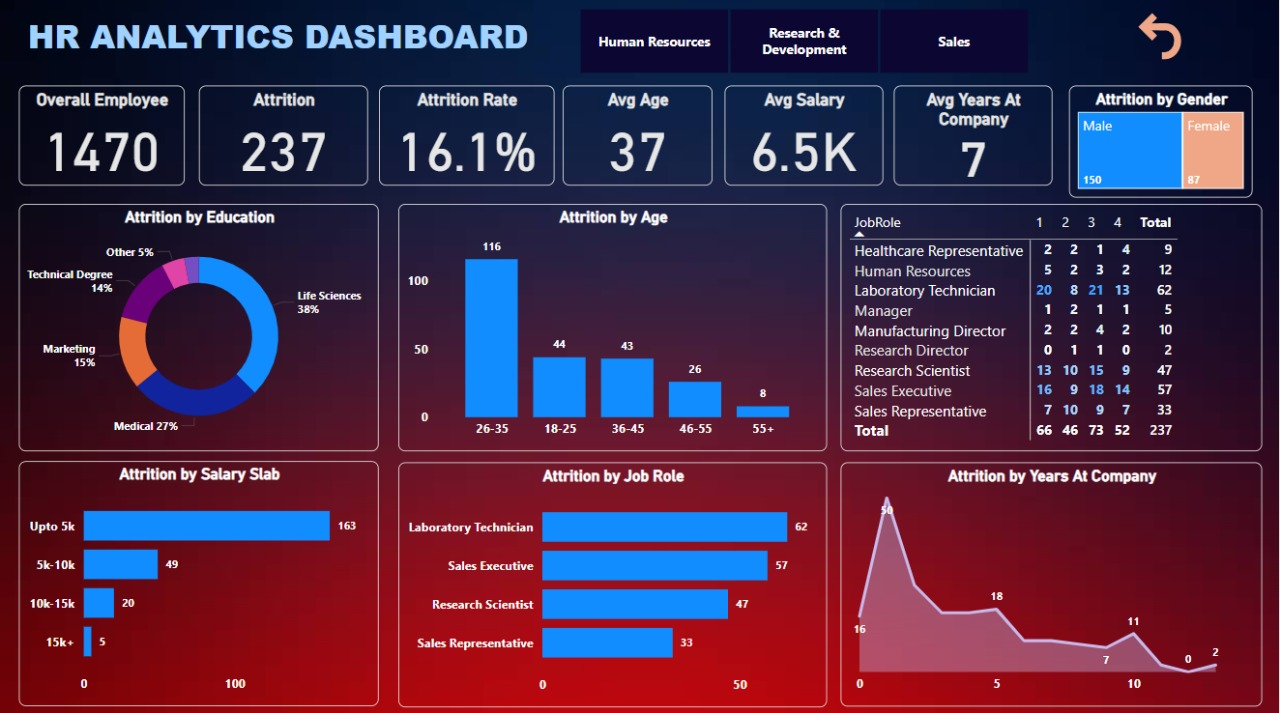

The dashboard page shown, as its layout file describes it:
{"tool":"powerbi","page":{"name":"Page 1","canvas":[1280,720],"ordinal":0},"visuals":[{"type":"card","title":"Overall Employee","fields":{"Values":["CountNonNull(HR_Analytics.EmpID)"]},"box":[21.7,89.3,165.3,100.1],"z":0},{"type":"card","title":"Attrition","fields":{"Values":["Sum(HR_Analytics.Attrition Count)"]},"box":[201.5,89.3,168.9,100.1],"z":1000},{"type":"card","title":"Attrition Rate","fields":{"Values":["HR_Analytics.AttritionRate"]},"box":[381.2,89.3,174.9,100.1],"z":2000},{"type":"card","title":"Avg Age","fields":{"Values":["Avg(HR_Analytics.Age)"]},"box":[564.6,89.3,149.6,100.1],"z":3000},{"type":"card","title":"Avg Salary","fields":{"Values":["Avg(HR_Analytics.MonthlyIncome)"]},"box":[726.3,89.3,158,100.1],"z":4000},{"type":"card","title":"Avg Years At Company","fields":{"Values":["Avg(HR_Analytics.YearsAtCompany)"]},"box":[895.2,89.3,158,100.1],"z":5000},{"type":"donutChart","title":"Attrition by Education","fields":{"Category":["HR_Analytics.EducationField"],"Y":["Sum(HR_Analytics.Attrition Count)"]},"box":[21.7,207.5,359.5,247.3],"z":6000},{"type":"columnChart","title":"Attrition by Age","fields":{"Category":["HR_Analytics.AgeGroup"],"Y":["Sum(HR_Analytics.Attrition Count)"]},"box":[400.5,207.5,428.3,247.3],"z":7000},{"type":"pivotTable","fields":{"Values":["Sum(HR_Analytics.Attrition Count)"],"Columns":["HR_Analytics.JobSatisfaction"],"Rows":["HR_Analytics.JobRole"]},"box":[842.1,207.5,421,247.3],"z":8000},{"type":"barChart","title":"Attrition by Salary Slab","fields":{"Category":["HR_Analytics.SalarySlab"],"Y":["Sum(HR_Analytics.Attrition Count)"]},"box":[21.7,464.5,359.5,244.9],"z":9000},{"type":"barChart","title":"Attrition by Job Role","fields":{"Category":["HR_Analytics.JobRole"],"Y":["Sum(HR_Analytics.Attrition Count)"]},"box":[400.5,465.7,428.3,244.9],"z":10000},{"type":"areaChart","title":"Attrition by Years At Company","fields":{"Category":["HR_Analytics.YearsAtCompany"],"Y":["Sum(HR_Analytics.Attrition Count)"]},"box":[842.1,465.7,421,243.7],"z":11000},{"type":"treemap","title":"Attrition by Gender","fields":{"Group":["HR_Analytics.Gender"],"Values":["Sum(HR_Analytics.Attrition Count)"]},"box":[1070.1,89.3,183.4,112.2],"z":12000},{"type":"textbox","box":[13.3,12.1,534.5,65.1],"z":13000},{"type":"slicer","fields":{"Values":["HR_Analytics.Department"]},"box":[556.2,6,497.1,77.2],"z":14000},{"type":"actionButton","box":[1105.6,12.1,112.8,55.1],"z":14001}]}

Visuals, with their boxes in screenshot pixels (x1, y1, x2, y2), scaled from the page's 1280x720 canvas onto the 1280x713 screenshot:
"Overall Employee" card: select_region(22, 88, 187, 188)
"Attrition" card: select_region(202, 88, 370, 188)
"Attrition Rate" card: select_region(381, 88, 556, 188)
"Avg Age" card: select_region(565, 88, 714, 188)
"Avg Salary" card: select_region(726, 88, 884, 188)
"Avg Years At Company" card: select_region(895, 88, 1053, 188)
"Attrition by Education" donutChart: select_region(22, 205, 381, 450)
"Attrition by Age" columnChart: select_region(400, 205, 829, 450)
pivotTable - Sum(HR_Analytics.Attrition Count) x HR_Analytics.JobSatisfaction: select_region(842, 205, 1263, 450)
"Attrition by Salary Slab" barChart: select_region(22, 460, 381, 703)
"Attrition by Job Role" barChart: select_region(400, 461, 829, 704)
"Attrition by Years At Company" areaChart: select_region(842, 461, 1263, 703)
"Attrition by Gender" treemap: select_region(1070, 88, 1254, 200)
textbox: select_region(13, 12, 548, 76)
slicer - HR_Analytics.Department: select_region(556, 6, 1053, 82)
actionButton: select_region(1106, 12, 1218, 67)
